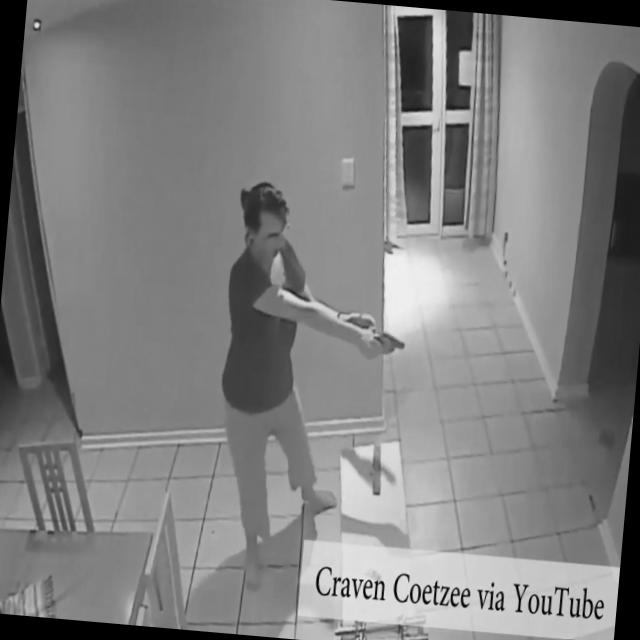gun: (360, 328, 404, 370)
person with a gun: (208, 182, 418, 545)
